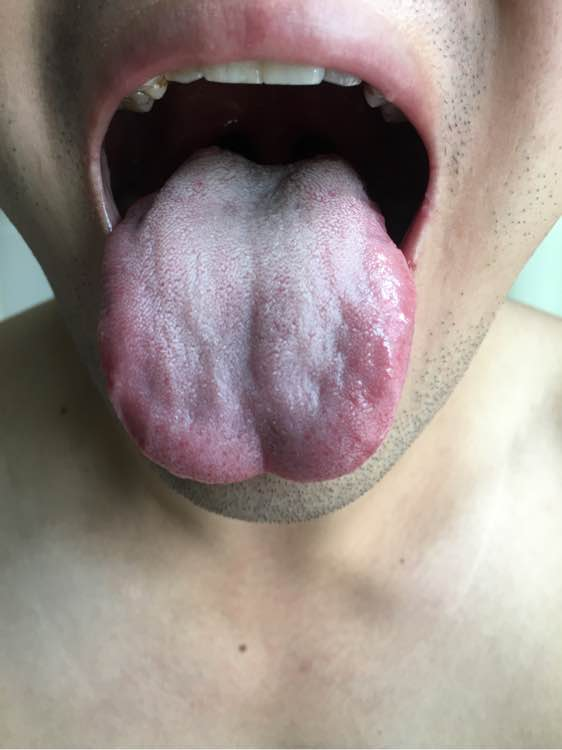baitaishe: (97, 147, 415, 483)
chihenshe: (98, 317, 150, 455)
shenquao: (207, 148, 338, 179)
xinfeiao: (209, 451, 315, 484)
